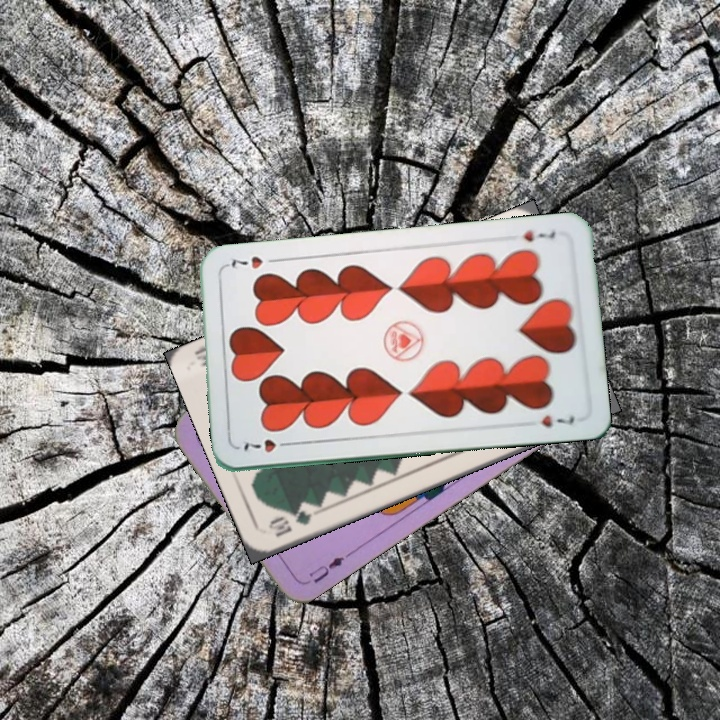EU: (305, 549, 352, 586)
G10: (264, 500, 321, 540)
H7: (239, 435, 296, 455), (519, 225, 558, 245)
